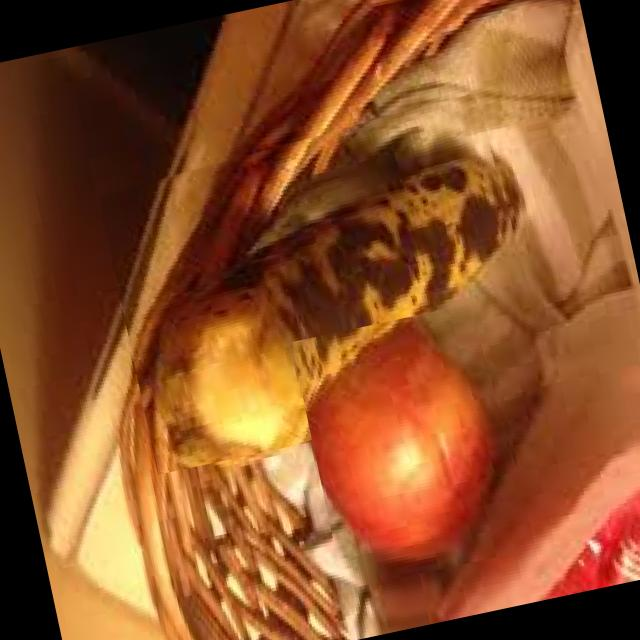Organic: (92, 88, 556, 474), (290, 300, 532, 570)
